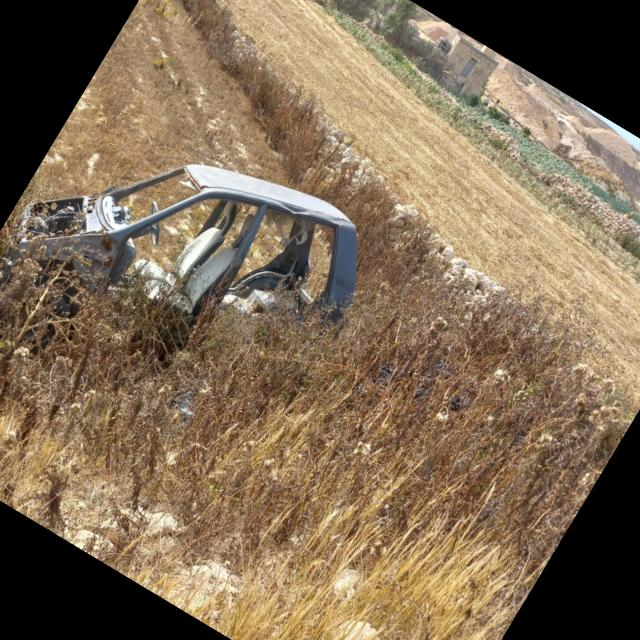Other litter: (0, 160, 356, 362)
